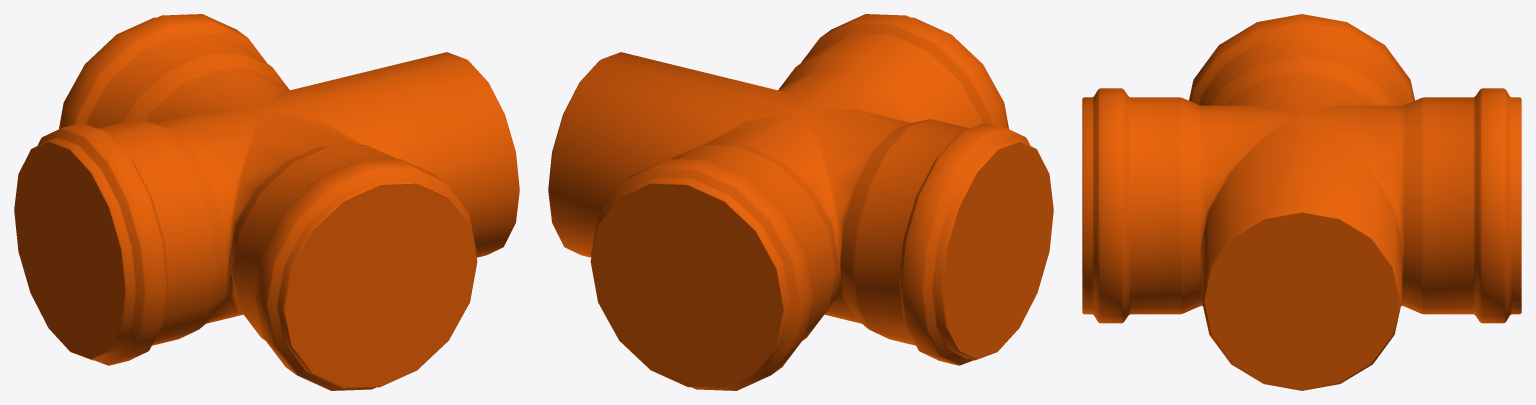
File: PVC_D160_T90X2.FBX
The picture shows the model from 3 angles, left to right: view 1: azimuth 30°, elevation 25°; view 2: azimuth 150°, elevation 25°; view 3: azimuth 270°, elevation 25°; orthographic projection. The views are drawn at different scales.
Visible parts, largest first — view 1: PVC_D160_T90X2; view 2: PVC_D160_T90X2; view 3: PVC_D160_T90X2.
Boxes of the visible parts, x1,y1,x2,y2 form: PVC_D160_T90X2: [14, 14, 519, 390]; PVC_D160_T90X2: [548, 14, 1053, 390]; PVC_D160_T90X2: [1082, 14, 1521, 390].
Size of the model in its own units: 35.48 by 18.74 by 35.01.
